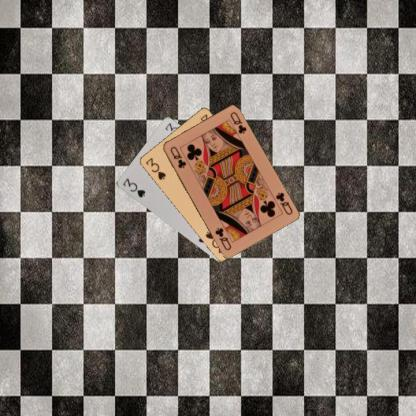3s: (143, 155, 167, 181), (120, 176, 146, 198)
Qc: (272, 190, 294, 216), (168, 144, 187, 169)
